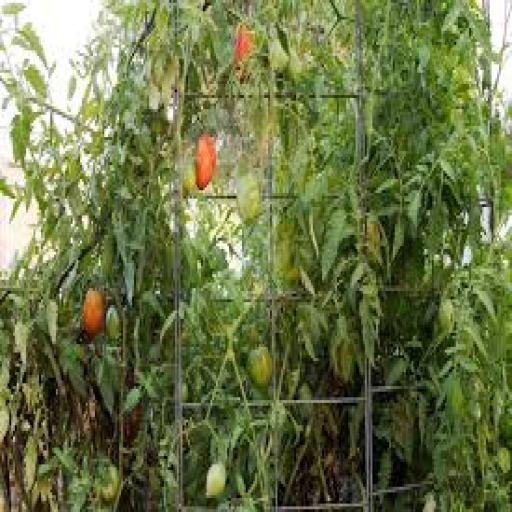tomato: (276, 222, 299, 288), (237, 174, 262, 221), (82, 289, 104, 338), (196, 135, 215, 190), (248, 345, 271, 388), (125, 403, 143, 447), (235, 26, 253, 69), (101, 465, 121, 503), (447, 375, 465, 416), (207, 462, 227, 498), (269, 37, 288, 72), (365, 222, 381, 262), (438, 297, 454, 335), (101, 233, 115, 276), (107, 305, 121, 341), (183, 166, 197, 195), (289, 48, 301, 81), (498, 448, 510, 472), (181, 381, 189, 402), (0, 487, 7, 511)
